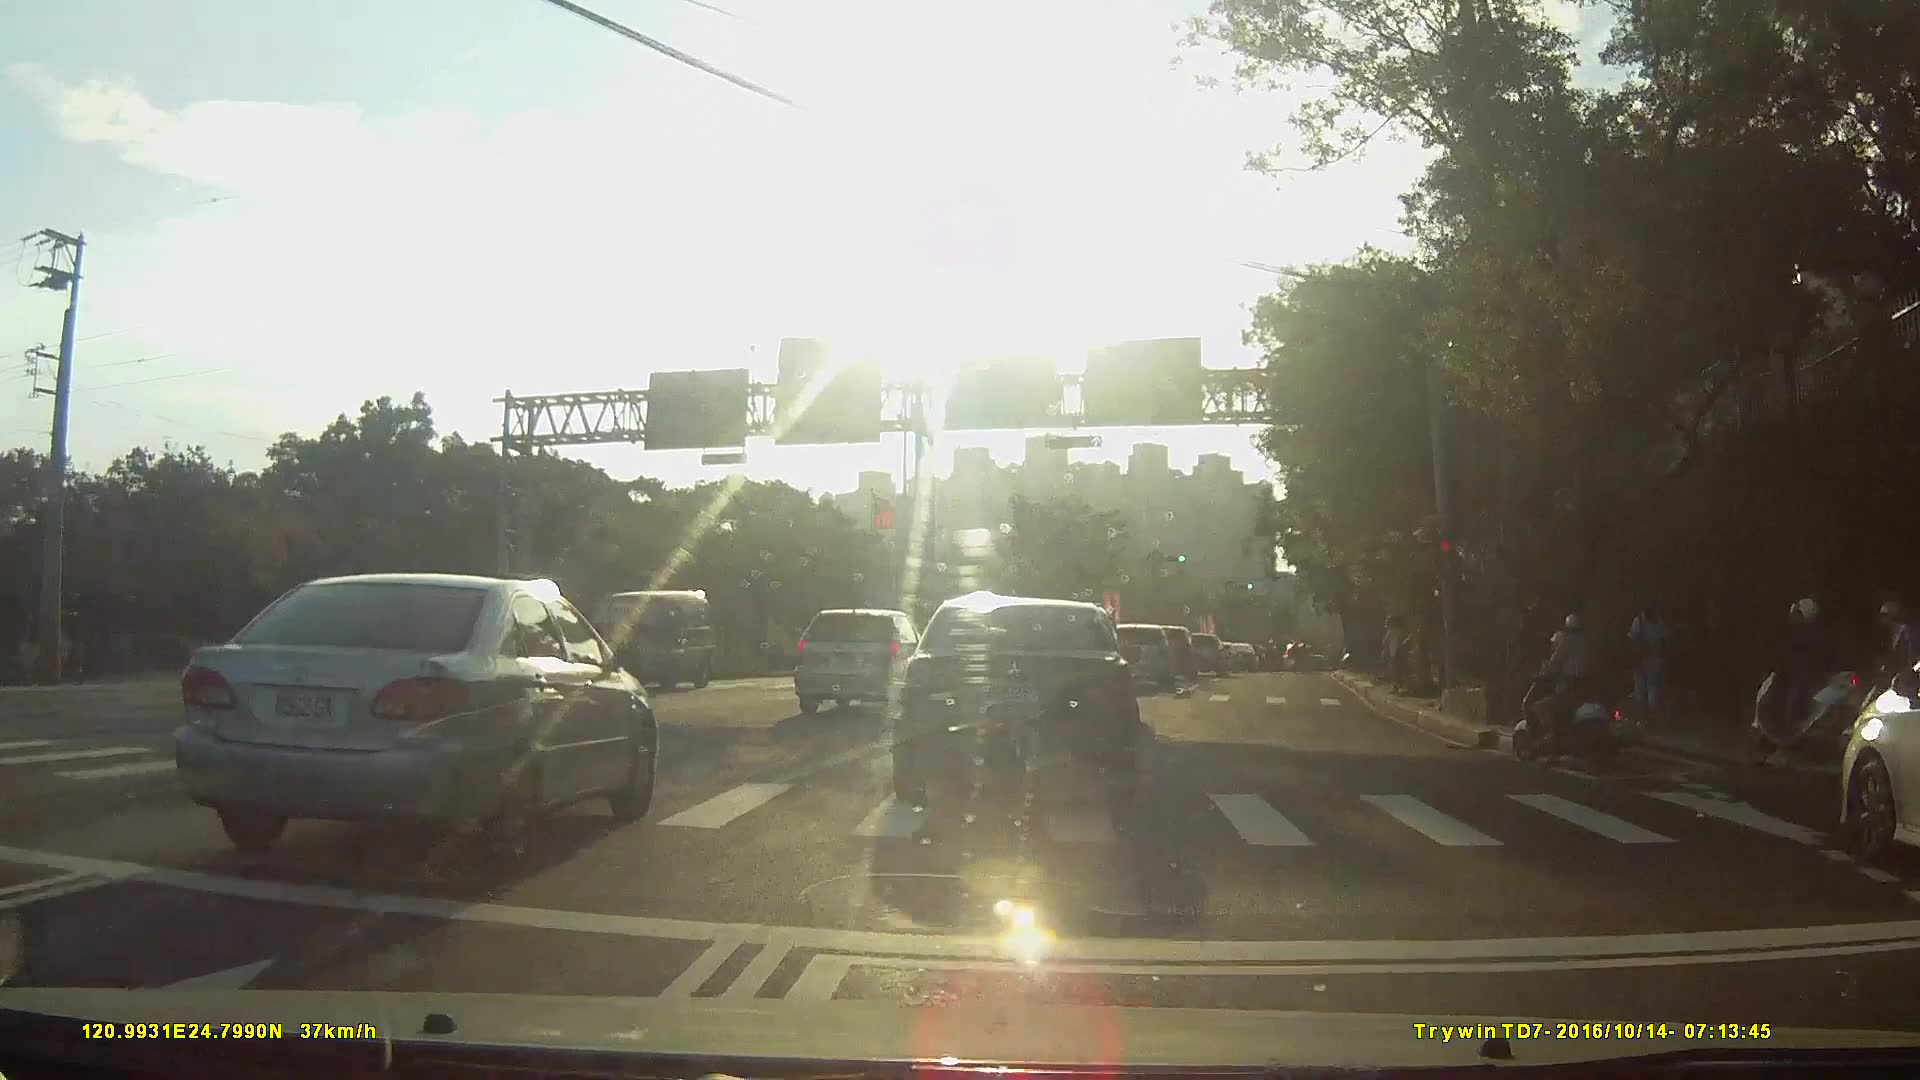pedestrian: (1618, 591, 1668, 730)
rider: (1758, 597, 1875, 767), (1517, 615, 1642, 773)
vehicle: (158, 572, 661, 870), (887, 593, 1136, 811), (1813, 643, 1920, 880), (572, 586, 722, 698), (793, 605, 938, 716), (1101, 625, 1175, 695), (1138, 626, 1200, 684), (1174, 633, 1224, 678), (1222, 644, 1259, 672)
